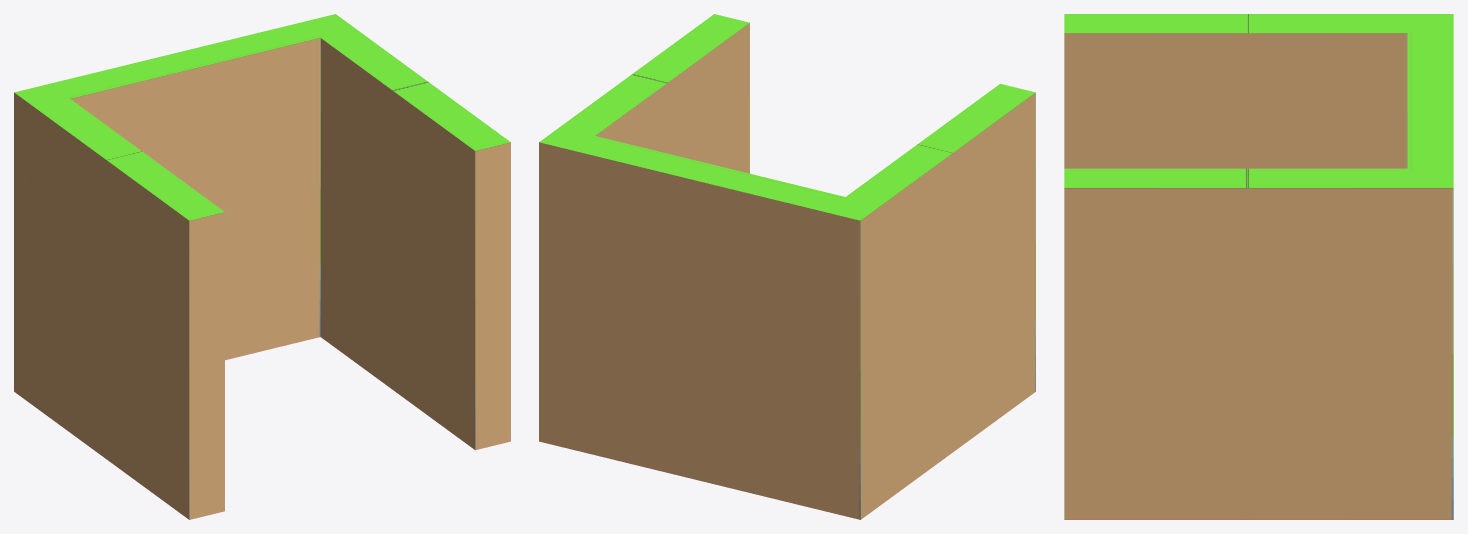
Rendered from MK_MK_Wall_DeadEnd_C.fbx.
3 renders of one model, left to right at view 1: azimuth 30°, elevation 25°; view 2: azimuth 150°, elevation 25°; view 3: azimuth 270°, elevation 25°, orthographic. The views are drawn at different scales.
Visible parts, largest first — view 1: MK_Wall_DeadEnd_C; view 2: MK_Wall_DeadEnd_C; view 3: MK_Wall_DeadEnd_C.
Boxes of the visible parts, box(x1,y1,x2,y2) form: MK_Wall_DeadEnd_C: box(14, 14, 510, 519); MK_Wall_DeadEnd_C: box(539, 14, 1035, 519); MK_Wall_DeadEnd_C: box(1064, 14, 1453, 519).
Size of the model in its own units: 202 by 180 by 191.
1 material, 1 textured.
